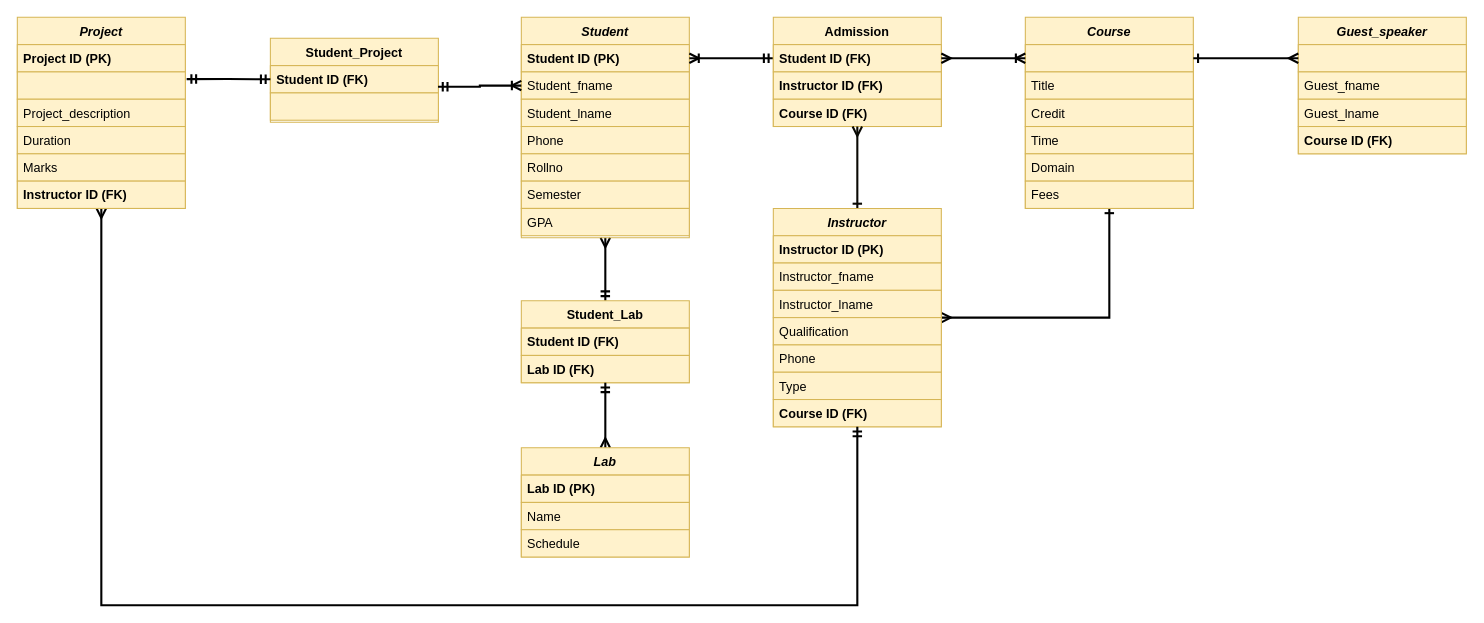
Image size: 1484x623. Some labels were removed from this diagram. Here are the shapes that lost their labels. From the top down, the centre of each, then its label:
the point at 1108,58: Course ID (PK)
the point at 1381,58: Guestspeaker ID (PK)
the point at 100,85: Project_name
the point at 353,106: Project ID (FK)
